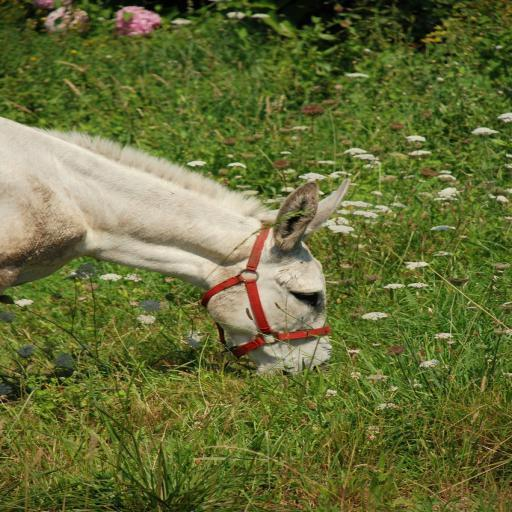Horse: (0, 115, 352, 375)
